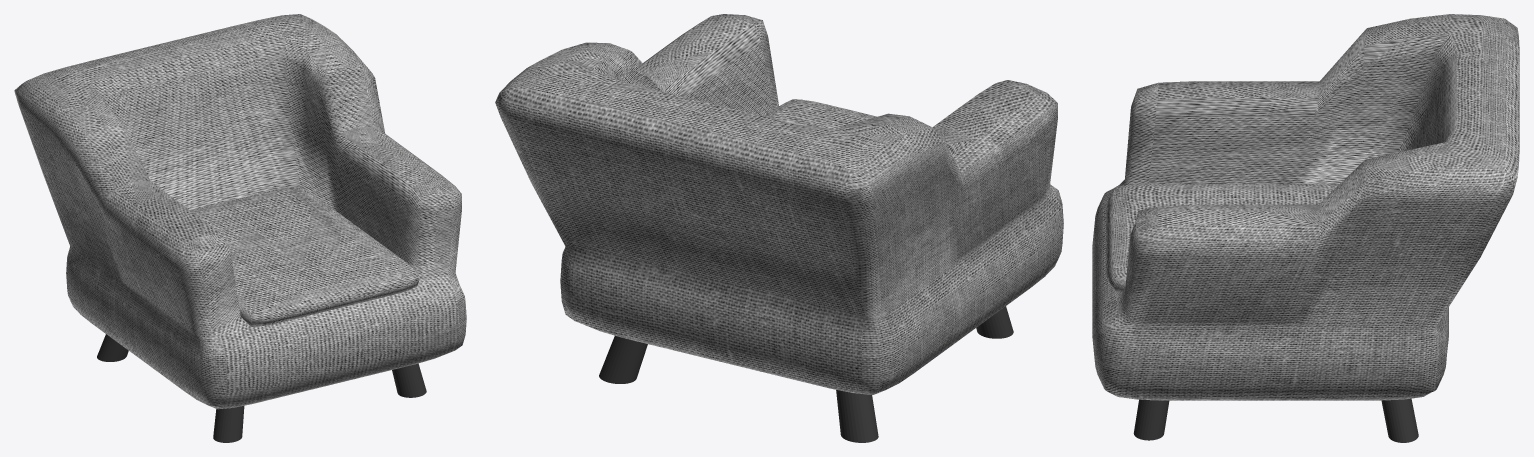
Rendered from fauteuil.fbx.
3 views of the same model, side by side, from view 1: azimuth 30°, elevation 25°; view 2: azimuth 150°, elevation 25°; view 3: azimuth 270°, elevation 25° (orthographic). The views are drawn at different scales.
Visible parts, largest first — view 1: fauteuil, coussin, pied; view 2: fauteuil, pied, coussin; view 3: fauteuil, coussin, pied.
Part boxes in pixels (<box>): fauteuil: <box>14,14,466,409</box>; coussin: <box>190,186,419,326</box>; pied: <box>97,334,426,442</box>; fauteuil: <box>495,14,1063,394</box>; pied: <box>599,306,1013,442</box>; coussin: <box>765,99,876,129</box>; fauteuil: <box>1092,14,1519,400</box>; coussin: <box>1106,184,1338,293</box>; pied: <box>1133,398,1418,442</box>.
Size of the model in its own units: 83.84 by 70.1 by 91.61.
